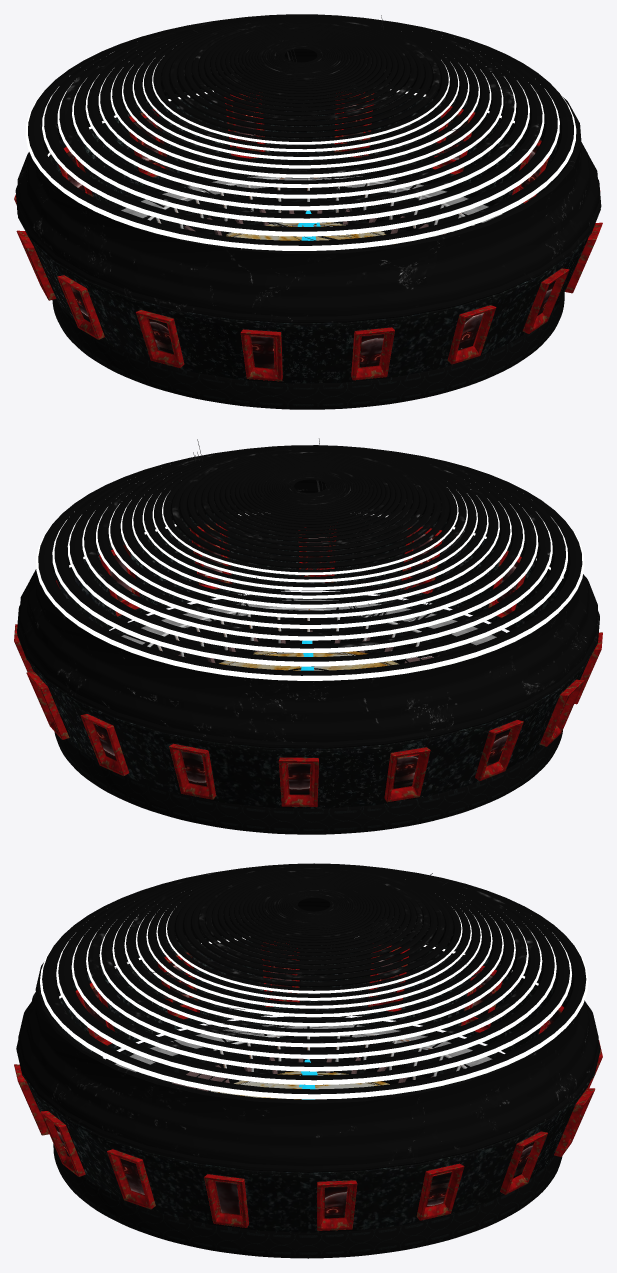
The model's file is interior1-quest.glb.
The picture shows the model from 3 angles, top to bottom: view 1: azimuth 30°, elevation 25°; view 2: azimuth 150°, elevation 25°; view 3: azimuth 270°, elevation 25°; orthographic projection.
Visible parts, largest first — view 1: Circle.051, Circle.005, Circle.004, Circle.008, Circle.007, Circle, Circle.003, Circle.006, BézierCurve.007; view 2: Circle.051, Circle.005, Circle.004, Circle.008, Circle.007, Circle, Circle.003, Circle.006; view 3: Circle.051, Circle.005, Circle.004, Circle.008, Circle.007, Circle, Circle.003, Circle.006, BézierCurve.009.
Boxes of the visible parts, <box> form: Circle.051: <box>25,14,576,250</box>; Circle.005: <box>15,48,601,323</box>; Circle.004: <box>14,82,602,383</box>; Circle.008: <box>52,157,564,409</box>; Circle.007: <box>146,187,479,236</box>; Circle: <box>121,175,502,223</box>; Circle.003: <box>121,175,501,222</box>; Circle.006: <box>226,222,394,244</box>; BézierCurve.007: <box>108,76,461,164</box>; Circle.051: <box>36,445,584,680</box>; Circle.005: <box>17,479,599,748</box>; Circle.004: <box>14,509,602,808</box>; Circle.008: <box>54,595,562,834</box>; Circle.007: <box>145,615,473,663</box>; Circle: <box>121,599,496,645</box>; Circle.003: <box>121,599,496,645</box>; Circle.006: <box>219,651,398,670</box>; Circle.051: <box>40,863,588,1099</box>; Circle.005: <box>16,898,600,1172</box>; Circle.004: <box>14,932,602,1232</box>; Circle.008: <box>53,1016,562,1258</box>; Circle.007: <box>138,1036,468,1084</box>; Circle: <box>114,1024,492,1072</box>; Circle.003: <box>115,1025,491,1071</box>; Circle.006: <box>210,1071,389,1099</box>; BézierCurve.009: <box>156,933,491,973</box>.
Bounding box in the file's own units: 22.25 × 10.35 × 22.25.
16 materials, 12 textured.
